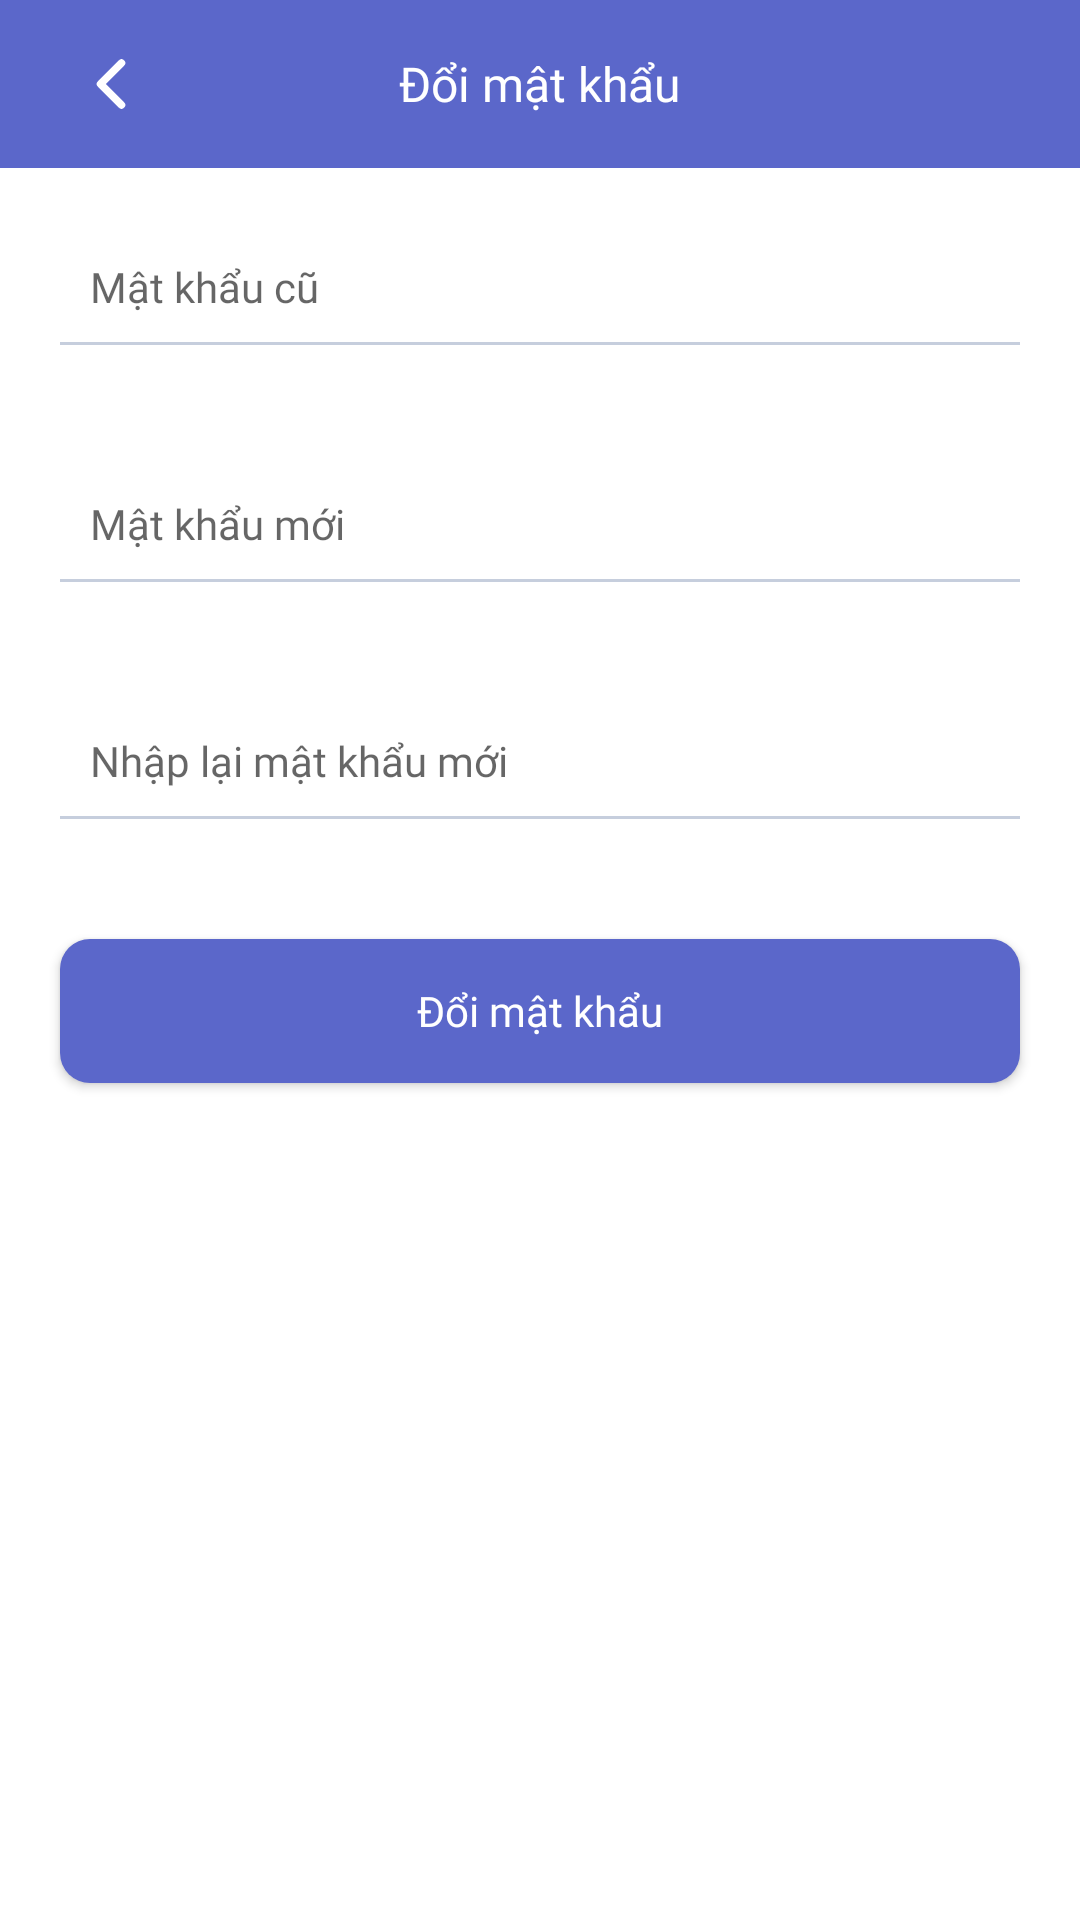

Where to tap for icons on this 1080px x 1920px app screen, as (x=x, y=y):
btnback: (x=111, y=84)
